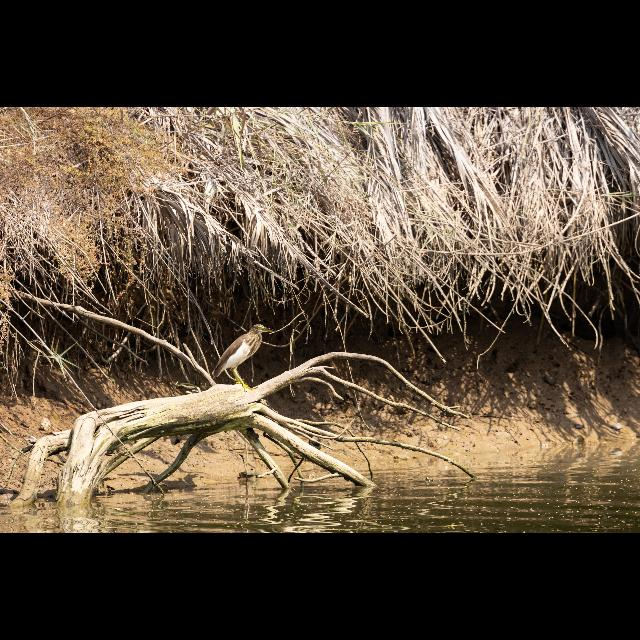heron: (210, 321, 276, 395)
